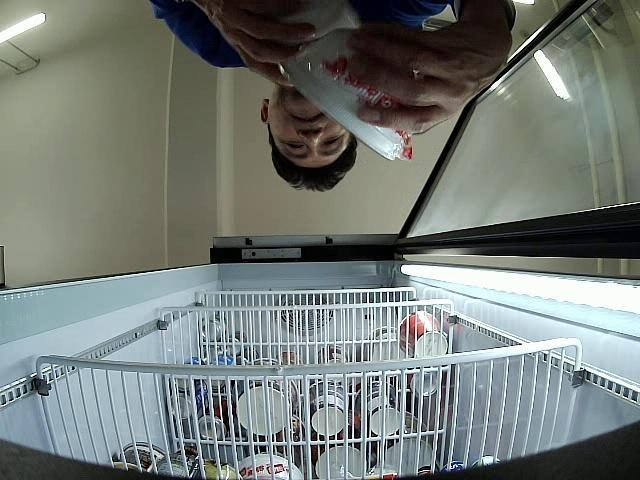09_yukGaeJang: (284, 31, 406, 160)
